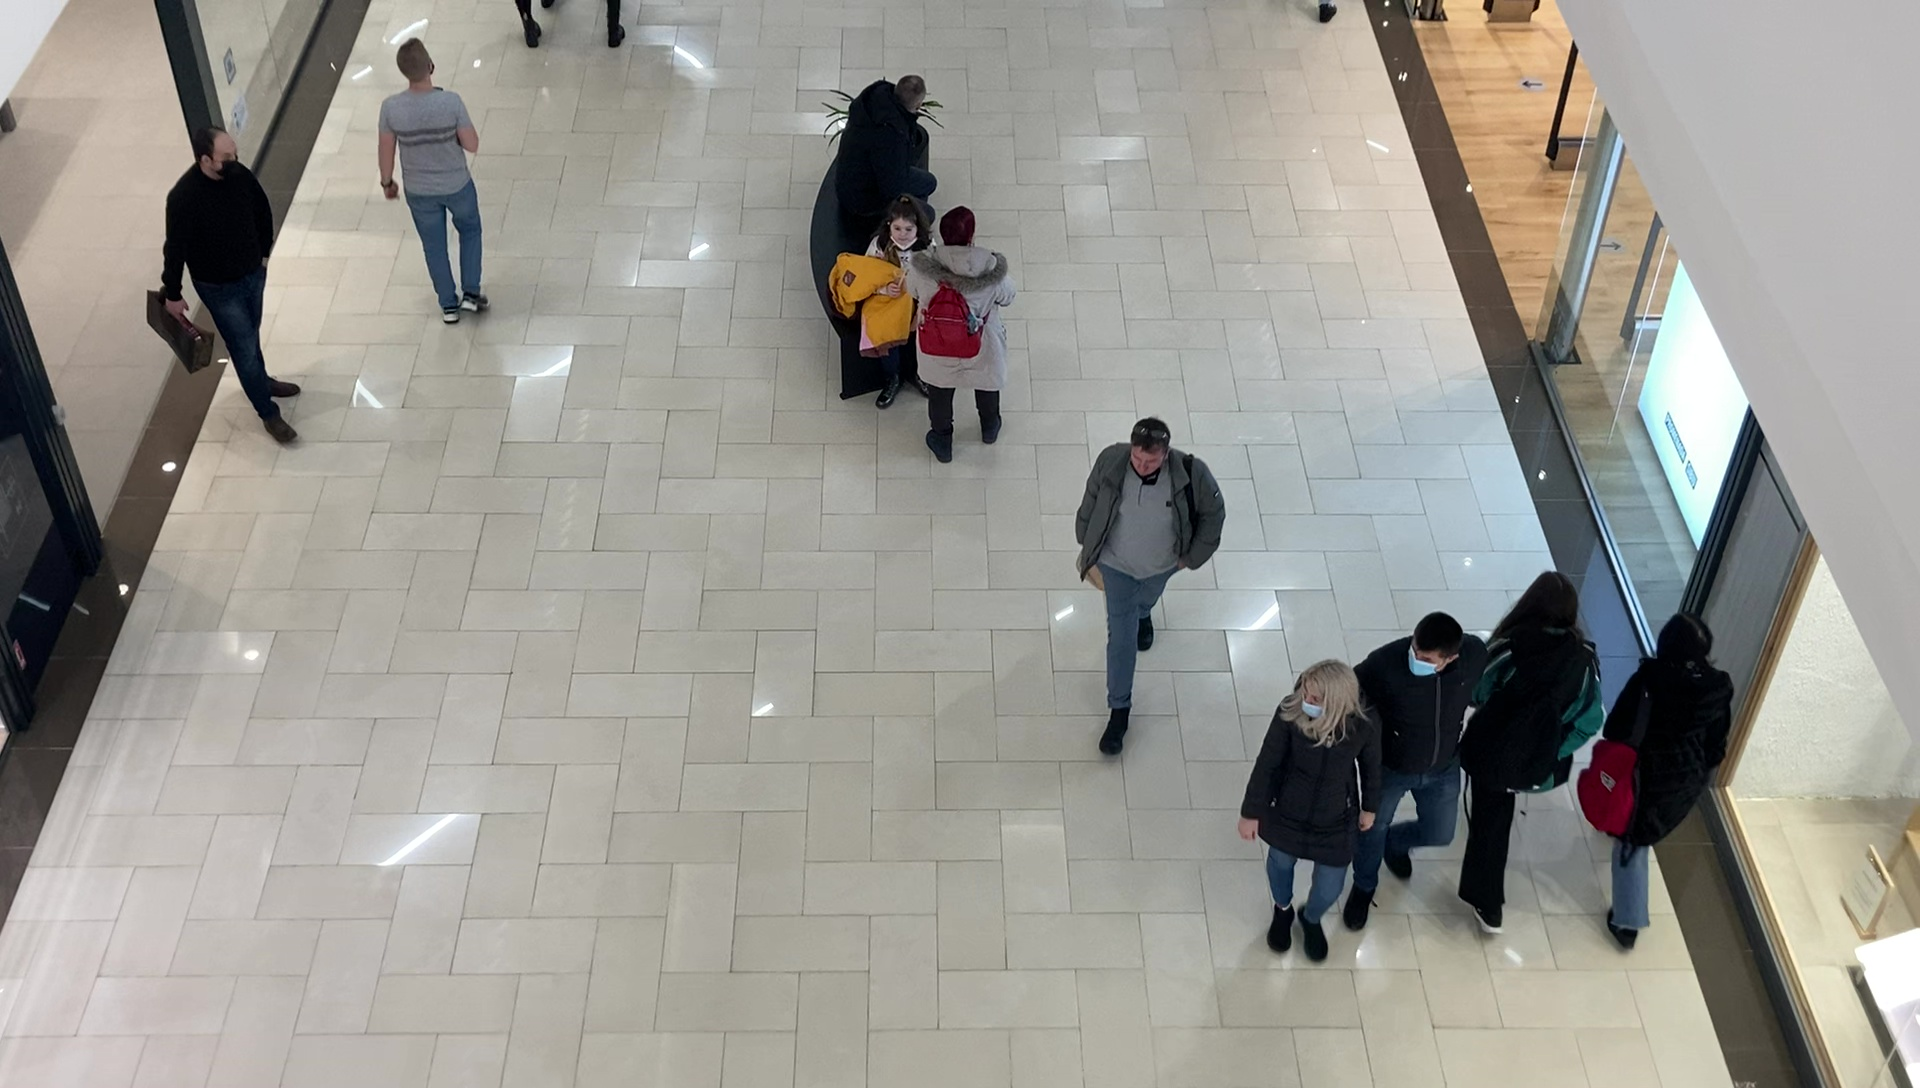person: (1075, 420, 1226, 755), (1468, 571, 1603, 929), (160, 125, 306, 447), (1607, 610, 1734, 946), (1238, 661, 1376, 959), (1350, 610, 1473, 935), (377, 40, 492, 327)
